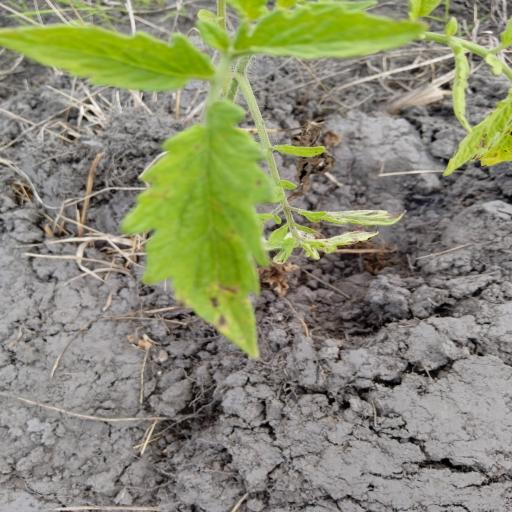Tomato_Brown_Spots: (120, 94, 284, 364)
